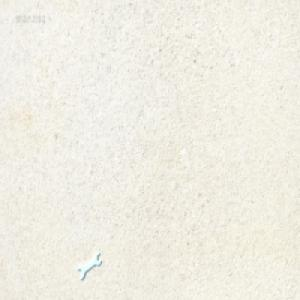Wrench: (77, 251, 101, 280)
